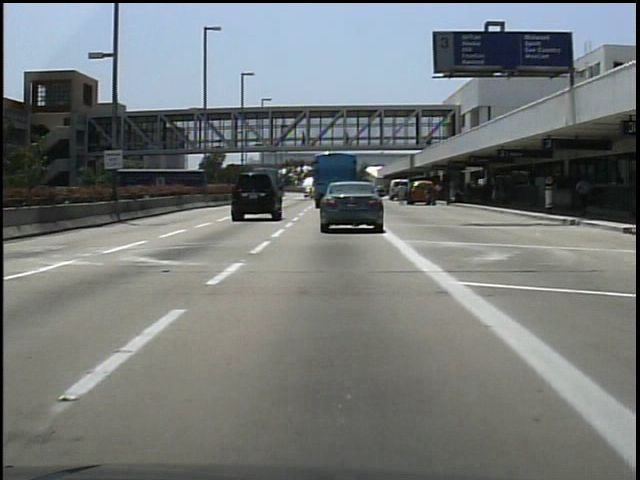person: (575, 172, 595, 218), (425, 178, 441, 210), (394, 180, 411, 209), (341, 130, 354, 152), (299, 128, 312, 148)
